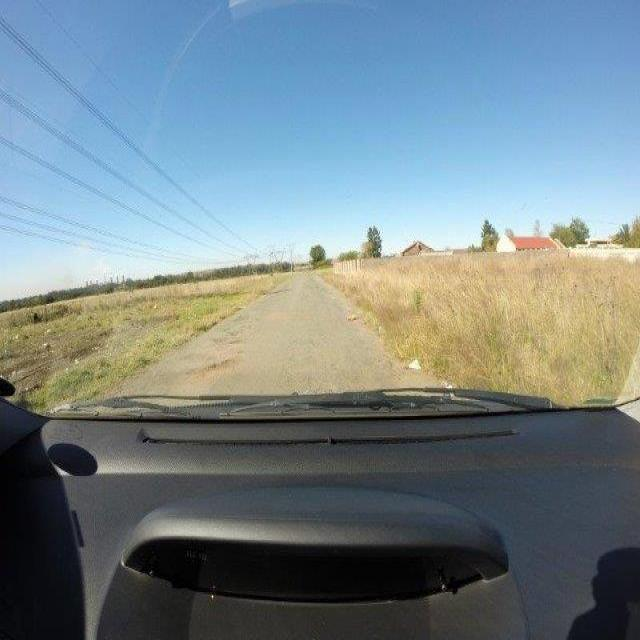lubang: (184, 353, 240, 380), (212, 334, 245, 351)
